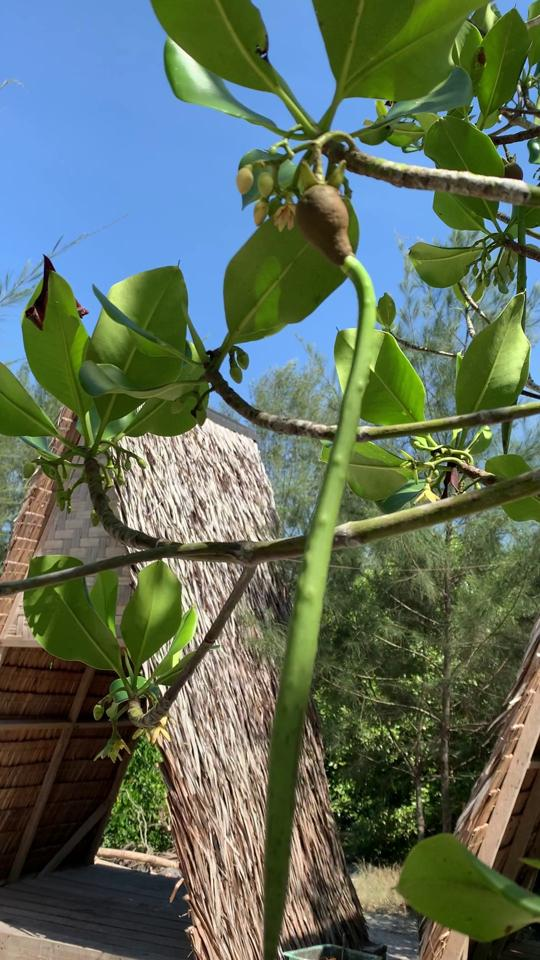setengah matang: (245, 160, 387, 958)
